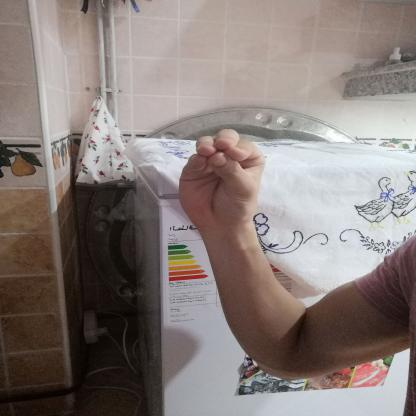HA: (162, 121, 278, 237)
